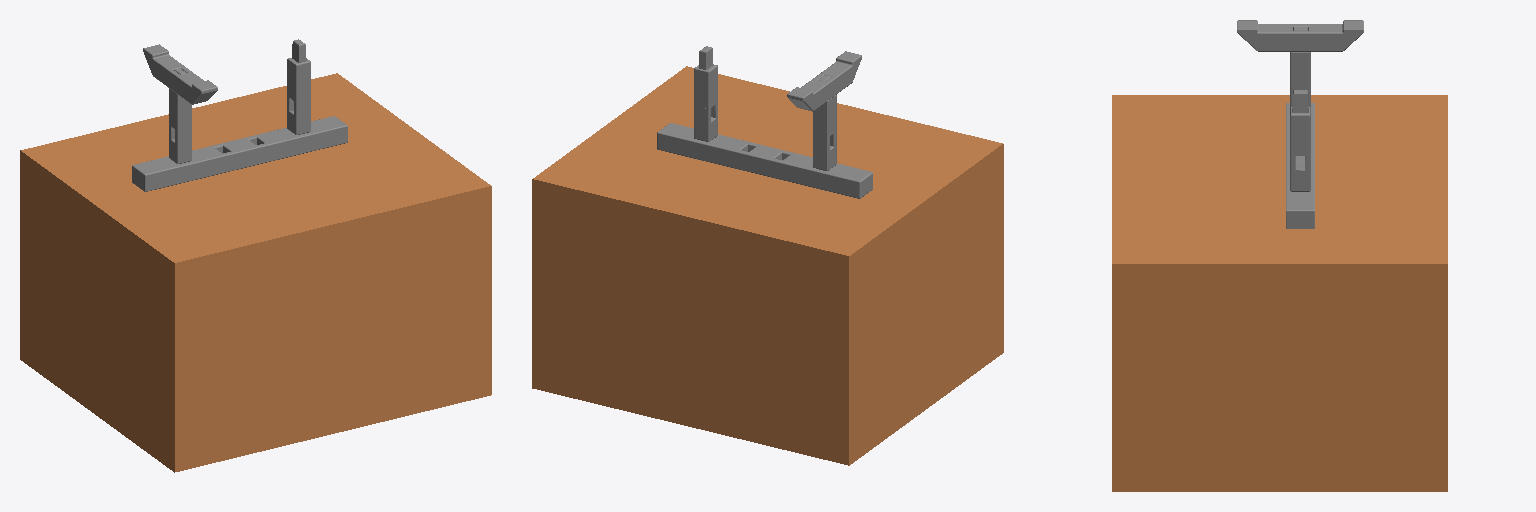
URDF robot description (table_beam_2x_1_scene_0094):
<?xml version="1.0"?>
<robot name="table_beam_2x_1_scene_0094">
  <link name="box">
    <visual>
      <material name="wood"><color rgba="0.82 0.56 0.35 1.0"/></material>
      <origin xyz="0 0 0"/>
      <geometry><box size="0.475 0.4 0.3"/></geometry>
    </visual>
    <collision>
      <origin xyz="0 0 0"/>
      <geometry><box size="0.475 0.4 0.3"/></geometry>
    </collision>
    <inertial>
      <mass value="500"/>
      <friction value="1.0"/>
      <inertia ixx="1000.0" ixy="0.0" ixz="0.0" iyy="1000.0" iyz="0.0" izz="1000.0"/>
    </inertial>
  </link>
  <link name="part_6_canonical">
    <visual>
      <origin xyz="0 0 0" rpy="0 0 0"/>
      <geometry><mesh filename="../../6/6_canonical.obj" scale="1 1 1"/></geometry>
      <material name="placed_0"><color rgba="0.6 0.6 0.6 1.0"/></material>
    </visual>
    <collision>
      <origin xyz="0 0 0" rpy="0 0 0"/>
      <geometry><mesh filename="../../6/6_canonical.obj" scale="1 1 1"/></geometry>
    </collision>
  </link>
  <joint name="part_6_canonical_joint" type="fixed">
    <parent link="box"/>
    <child link="part_6_canonical"/>
    <origin xyz="-0.010075 0.024446 0.162666" rpy="0.000000 0.000000 0.000000"/>
  </joint>
  <link name="part_2_canonical">
    <visual>
      <origin xyz="0 0 0" rpy="0 0 0"/>
      <geometry><mesh filename="../../2/2_canonical.obj" scale="1 1 1"/></geometry>
      <material name="placed_1"><color rgba="0.6 0.6 0.6 1.0"/></material>
    </visual>
    <collision>
      <origin xyz="0 0 0" rpy="0 0 0"/>
      <geometry><mesh filename="../../2/2_canonical.obj" scale="1 1 1"/></geometry>
    </collision>
  </link>
  <joint name="part_2_canonical_joint" type="fixed">
    <parent link="box"/>
    <child link="part_2_canonical"/>
    <origin xyz="-0.099001 0.024446 0.225384" rpy="0.000000 -1.570796 0.000000"/>
  </joint>
  <link name="part_0_canonical">
    <visual>
      <origin xyz="0 0 0" rpy="0 0 0"/>
      <geometry><mesh filename="../../0/0_canonical.obj" scale="1 1 1"/></geometry>
      <material name="placed_2"><color rgba="0.6 0.6 0.6 1.0"/></material>
    </visual>
    <collision>
      <origin xyz="0 0 0" rpy="0 0 0"/>
      <geometry><mesh filename="../../0/0_canonical.obj" scale="1 1 1"/></geometry>
    </collision>
  </link>
  <joint name="part_0_canonical_joint" type="fixed">
    <parent link="box"/>
    <child link="part_0_canonical"/>
    <origin xyz="-0.098975 0.024446 0.292243" rpy="1.570796 0.000000 -1.570796"/>
  </joint>
  <link name="part_3_hull_0">
    <visual>
      <origin xyz="0 0 0" rpy="0 0 0"/>
      <geometry><mesh filename="../../3/coacd/decomp_0.obj" scale="1 1 1"/></geometry>
      <material name="placed_3"><color rgba="0.6 0.6 0.6 1.0"/></material>
    </visual>
    <collision>
      <origin xyz="0 0 0" rpy="0 0 0"/>
      <geometry><mesh filename="../../3/coacd/decomp_0.obj" scale="1 1 1"/></geometry>
    </collision>
  </link>
  <joint name="part_3_hull_0_joint" type="fixed">
    <parent link="box"/>
    <child link="part_3_hull_0"/>
    <origin xyz="0.078852 0.024446 0.225384" rpy="0.000000 -1.570796 0.000000"/>
  </joint>
  <link name="part_3_hull_1">
    <visual>
      <origin xyz="0 0 0" rpy="0 0 0"/>
      <geometry><mesh filename="../../3/coacd/decomp_1.obj" scale="1 1 1"/></geometry>
      <material name="placed_4"><color rgba="0.6 0.6 0.6 1.0"/></material>
    </visual>
    <collision>
      <origin xyz="0 0 0" rpy="0 0 0"/>
      <geometry><mesh filename="../../3/coacd/decomp_1.obj" scale="1 1 1"/></geometry>
    </collision>
  </link>
  <joint name="part_3_hull_1_joint" type="fixed">
    <parent link="box"/>
    <child link="part_3_hull_1"/>
    <origin xyz="0.078852 0.024446 0.225384" rpy="0.000000 -1.570796 0.000000"/>
  </joint>
  <link name="part_3_hull_2">
    <visual>
      <origin xyz="0 0 0" rpy="0 0 0"/>
      <geometry><mesh filename="../../3/coacd/decomp_10.obj" scale="1 1 1"/></geometry>
      <material name="placed_5"><color rgba="0.6 0.6 0.6 1.0"/></material>
    </visual>
    <collision>
      <origin xyz="0 0 0" rpy="0 0 0"/>
      <geometry><mesh filename="../../3/coacd/decomp_10.obj" scale="1 1 1"/></geometry>
    </collision>
  </link>
  <joint name="part_3_hull_2_joint" type="fixed">
    <parent link="box"/>
    <child link="part_3_hull_2"/>
    <origin xyz="0.078852 0.024446 0.225384" rpy="0.000000 -1.570796 0.000000"/>
  </joint>
  <link name="part_3_hull_3">
    <visual>
      <origin xyz="0 0 0" rpy="0 0 0"/>
      <geometry><mesh filename="../../3/coacd/decomp_11.obj" scale="1 1 1"/></geometry>
      <material name="placed_6"><color rgba="0.6 0.6 0.6 1.0"/></material>
    </visual>
    <collision>
      <origin xyz="0 0 0" rpy="0 0 0"/>
      <geometry><mesh filename="../../3/coacd/decomp_11.obj" scale="1 1 1"/></geometry>
    </collision>
  </link>
  <joint name="part_3_hull_3_joint" type="fixed">
    <parent link="box"/>
    <child link="part_3_hull_3"/>
    <origin xyz="0.078852 0.024446 0.225384" rpy="0.000000 -1.570796 0.000000"/>
  </joint>
  <link name="part_3_hull_4">
    <visual>
      <origin xyz="0 0 0" rpy="0 0 0"/>
      <geometry><mesh filename="../../3/coacd/decomp_12.obj" scale="1 1 1"/></geometry>
      <material name="placed_7"><color rgba="0.6 0.6 0.6 1.0"/></material>
    </visual>
    <collision>
      <origin xyz="0 0 0" rpy="0 0 0"/>
      <geometry><mesh filename="../../3/coacd/decomp_12.obj" scale="1 1 1"/></geometry>
    </collision>
  </link>
  <joint name="part_3_hull_4_joint" type="fixed">
    <parent link="box"/>
    <child link="part_3_hull_4"/>
    <origin xyz="0.078852 0.024446 0.225384" rpy="0.000000 -1.570796 0.000000"/>
  </joint>
  <link name="part_3_hull_5">
    <visual>
      <origin xyz="0 0 0" rpy="0 0 0"/>
      <geometry><mesh filename="../../3/coacd/decomp_2.obj" scale="1 1 1"/></geometry>
      <material name="placed_8"><color rgba="0.6 0.6 0.6 1.0"/></material>
    </visual>
    <collision>
      <origin xyz="0 0 0" rpy="0 0 0"/>
      <geometry><mesh filename="../../3/coacd/decomp_2.obj" scale="1 1 1"/></geometry>
    </collision>
  </link>
  <joint name="part_3_hull_5_joint" type="fixed">
    <parent link="box"/>
    <child link="part_3_hull_5"/>
    <origin xyz="0.078852 0.024446 0.225384" rpy="0.000000 -1.570796 0.000000"/>
  </joint>
  <link name="part_3_hull_6">
    <visual>
      <origin xyz="0 0 0" rpy="0 0 0"/>
      <geometry><mesh filename="../../3/coacd/decomp_3.obj" scale="1 1 1"/></geometry>
      <material name="placed_9"><color rgba="0.6 0.6 0.6 1.0"/></material>
    </visual>
    <collision>
      <origin xyz="0 0 0" rpy="0 0 0"/>
      <geometry><mesh filename="../../3/coacd/decomp_3.obj" scale="1 1 1"/></geometry>
    </collision>
  </link>
  <joint name="part_3_hull_6_joint" type="fixed">
    <parent link="box"/>
    <child link="part_3_hull_6"/>
    <origin xyz="0.078852 0.024446 0.225384" rpy="0.000000 -1.570796 0.000000"/>
  </joint>
  <link name="part_3_hull_7">
    <visual>
      <origin xyz="0 0 0" rpy="0 0 0"/>
      <geometry><mesh filename="../../3/coacd/decomp_4.obj" scale="1 1 1"/></geometry>
      <material name="placed_10"><color rgba="0.6 0.6 0.6 1.0"/></material>
    </visual>
    <collision>
      <origin xyz="0 0 0" rpy="0 0 0"/>
      <geometry><mesh filename="../../3/coacd/decomp_4.obj" scale="1 1 1"/></geometry>
    </collision>
  </link>
  <joint name="part_3_hull_7_joint" type="fixed">
    <parent link="box"/>
    <child link="part_3_hull_7"/>
    <origin xyz="0.078852 0.024446 0.225384" rpy="0.000000 -1.570796 0.000000"/>
  </joint>
  <link name="part_3_hull_8">
    <visual>
      <origin xyz="0 0 0" rpy="0 0 0"/>
      <geometry><mesh filename="../../3/coacd/decomp_5.obj" scale="1 1 1"/></geometry>
      <material name="placed_11"><color rgba="0.6 0.6 0.6 1.0"/></material>
    </visual>
    <collision>
      <origin xyz="0 0 0" rpy="0 0 0"/>
      <geometry><mesh filename="../../3/coacd/decomp_5.obj" scale="1 1 1"/></geometry>
    </collision>
  </link>
  <joint name="part_3_hull_8_joint" type="fixed">
    <parent link="box"/>
    <child link="part_3_hull_8"/>
    <origin xyz="0.078852 0.024446 0.225384" rpy="0.000000 -1.570796 0.000000"/>
  </joint>
  <link name="part_3_hull_9">
    <visual>
      <origin xyz="0 0 0" rpy="0 0 0"/>
      <geometry><mesh filename="../../3/coacd/decomp_6.obj" scale="1 1 1"/></geometry>
      <material name="placed_12"><color rgba="0.6 0.6 0.6 1.0"/></material>
    </visual>
    <collision>
      <origin xyz="0 0 0" rpy="0 0 0"/>
      <geometry><mesh filename="../../3/coacd/decomp_6.obj" scale="1 1 1"/></geometry>
    </collision>
  </link>
  <joint name="part_3_hull_9_joint" type="fixed">
    <parent link="box"/>
    <child link="part_3_hull_9"/>
    <origin xyz="0.078852 0.024446 0.225384" rpy="0.000000 -1.570796 0.000000"/>
  </joint>
  <link name="part_3_hull_10">
    <visual>
      <origin xyz="0 0 0" rpy="0 0 0"/>
      <geometry><mesh filename="../../3/coacd/decomp_7.obj" scale="1 1 1"/></geometry>
      <material name="placed_13"><color rgba="0.6 0.6 0.6 1.0"/></material>
    </visual>
    <collision>
      <origin xyz="0 0 0" rpy="0 0 0"/>
      <geometry><mesh filename="../../3/coacd/decomp_7.obj" scale="1 1 1"/></geometry>
    </collision>
  </link>
  <joint name="part_3_hull_10_joint" type="fixed">
    <parent link="box"/>
    <child link="part_3_hull_10"/>
    <origin xyz="0.078852 0.024446 0.225384" rpy="0.000000 -1.570796 0.000000"/>
  </joint>
  <link name="part_3_hull_11">
    <visual>
      <origin xyz="0 0 0" rpy="0 0 0"/>
      <geometry><mesh filename="../../3/coacd/decomp_8.obj" scale="1 1 1"/></geometry>
      <material name="placed_14"><color rgba="0.6 0.6 0.6 1.0"/></material>
    </visual>
    <collision>
      <origin xyz="0 0 0" rpy="0 0 0"/>
      <geometry><mesh filename="../../3/coacd/decomp_8.obj" scale="1 1 1"/></geometry>
    </collision>
  </link>
  <joint name="part_3_hull_11_joint" type="fixed">
    <parent link="box"/>
    <child link="part_3_hull_11"/>
    <origin xyz="0.078852 0.024446 0.225384" rpy="0.000000 -1.570796 0.000000"/>
  </joint>
  <link name="part_3_hull_12">
    <visual>
      <origin xyz="0 0 0" rpy="0 0 0"/>
      <geometry><mesh filename="../../3/coacd/decomp_9.obj" scale="1 1 1"/></geometry>
      <material name="placed_15"><color rgba="0.6 0.6 0.6 1.0"/></material>
    </visual>
    <collision>
      <origin xyz="0 0 0" rpy="0 0 0"/>
      <geometry><mesh filename="../../3/coacd/decomp_9.obj" scale="1 1 1"/></geometry>
    </collision>
  </link>
  <joint name="part_3_hull_12_joint" type="fixed">
    <parent link="box"/>
    <child link="part_3_hull_12"/>
    <origin xyz="0.078852 0.024446 0.225384" rpy="0.000000 -1.570796 0.000000"/>
  </joint>
</robot>

--- What the picture shows (computed from the rendered views, not written in the file) ---
Views: 3 orthographic renders of the robot side by side, from view 1: azimuth 30°, elevation 25°; view 2: azimuth 150°, elevation 25°; view 3: azimuth 270°, elevation 25°.
Robot: table_beam_2x_1_scene_0094 — 17 links, 16 joints (16 fixed); root link box; default pose: every joint at zero.
Visible links, largest first — view 1: box, part_6_canonical, part_0_canonical, part_2_canonical, part_3_hull_7; view 2: box, part_6_canonical, part_0_canonical, part_2_canonical; view 3: box, part_0_canonical, part_6_canonical, part_2_canonical, part_3_hull_0.
Link boxes in pixels (x1,y1,x2,y2): box: (20, 73, 491, 472); part_6_canonical: (132, 116, 347, 191); part_0_canonical: (143, 44, 217, 104); part_2_canonical: (169, 68, 191, 163); part_3_hull_7: (299, 61, 307, 133); box: (532, 66, 1003, 465); part_6_canonical: (657, 123, 872, 198); part_0_canonical: (787, 51, 861, 111); part_2_canonical: (813, 75, 836, 170); box: (1112, 95, 1447, 491); part_0_canonical: (1237, 20, 1363, 51); part_6_canonical: (1286, 103, 1314, 228); part_2_canonical: (1290, 27, 1310, 107); part_3_hull_0: (1290, 113, 1310, 155).
Size in the robot's own frame: 0.475 by 0.4 by 0.4575 metres.
16 mesh visuals loaded from 16 distinct referenced files (16 OBJ).
